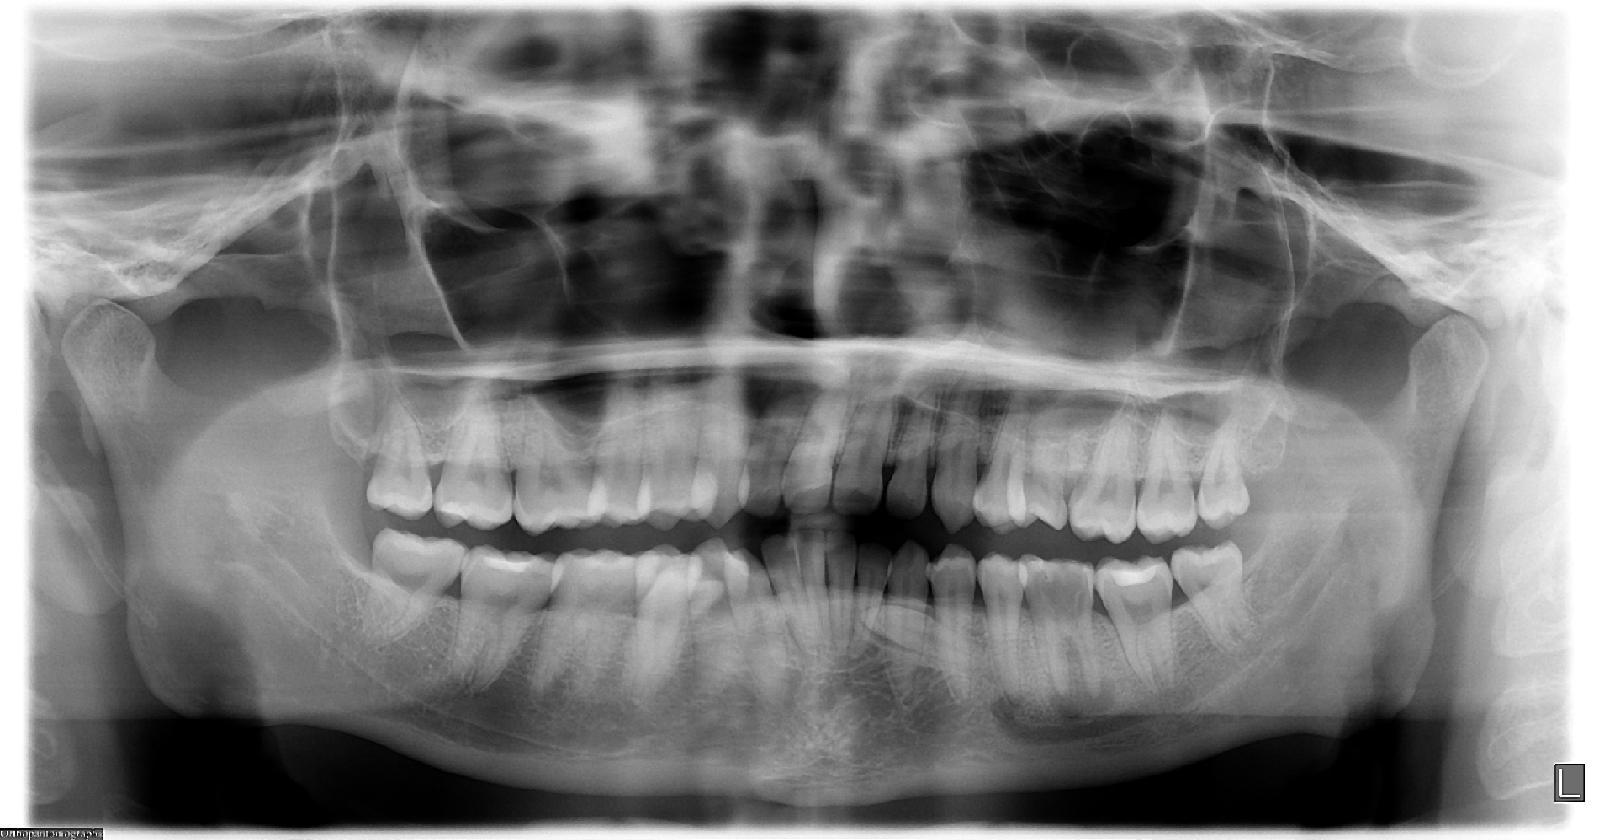Erupted: (359, 524, 467, 654), (1172, 539, 1269, 660)
